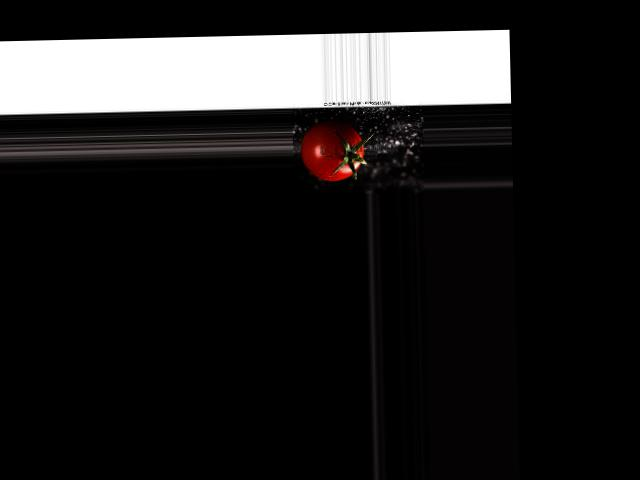tomato: (300, 119, 364, 181)
